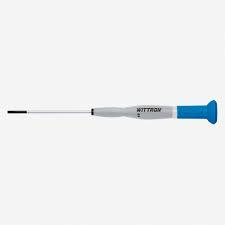screwdriver: (6, 98, 217, 124), (6, 98, 217, 124)
